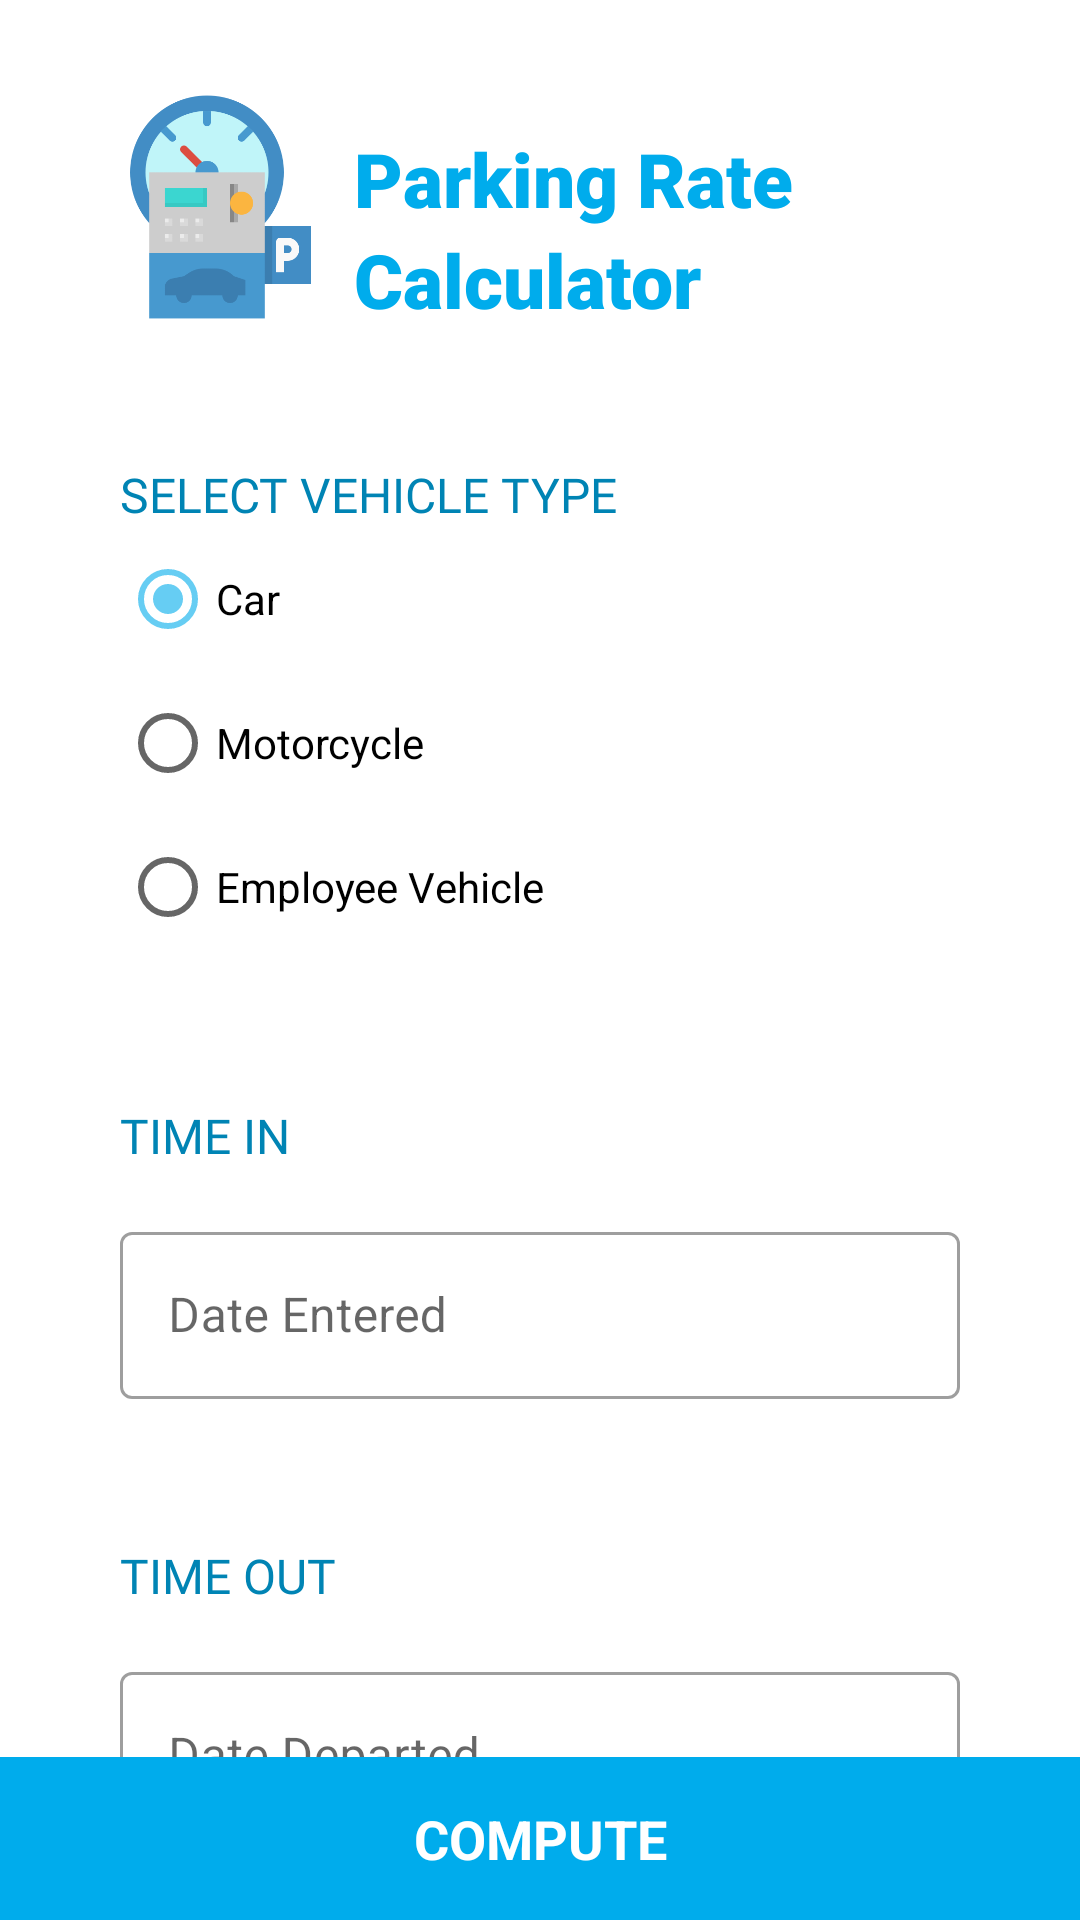

Icon bounding boxes for this 1080px x 1920px phone screenshot, format (x1, y1, x2, y2):
parking meter: (130, 95, 311, 319)
